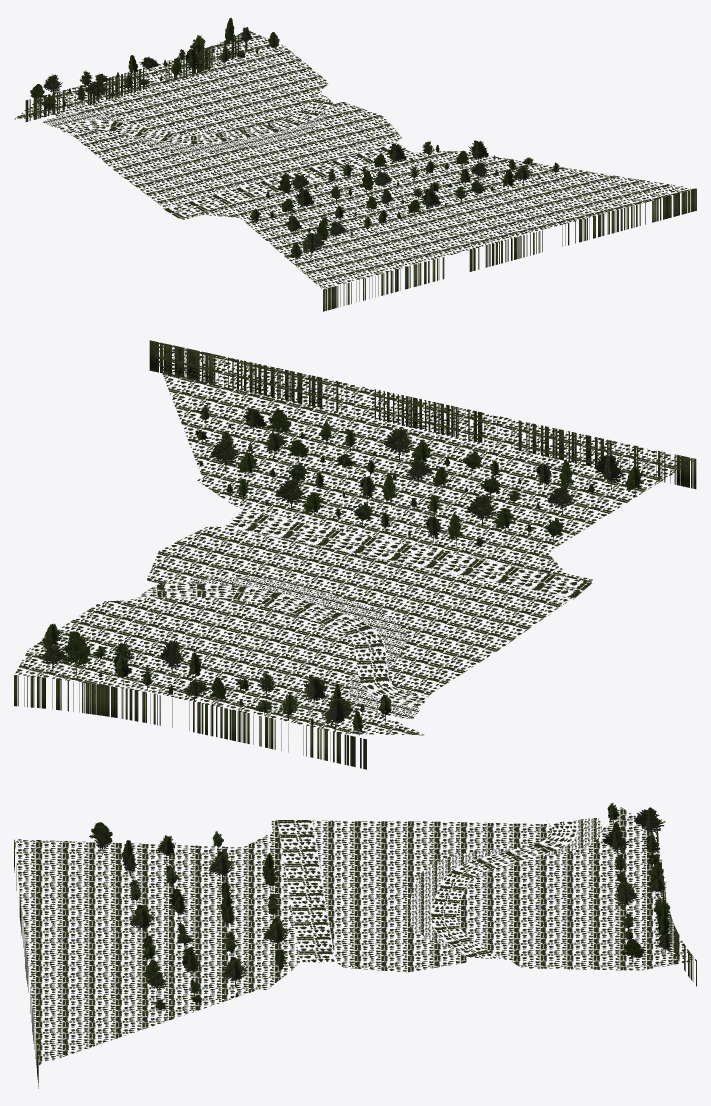
Rendered from redring5.glb.
3 views of the same model, one above another, from view 1: azimuth 30°, elevation 25°; view 2: azimuth 150°, elevation 25°; view 3: azimuth 270°, elevation 25° (orthographic). The views are drawn at different scales.
Parts seen in each view (by area): view 1: redring5; view 2: redring5; view 3: redring5.
Part boxes in pixels (x1,y1,x2,y2): redring5: (14,18,696,311); redring5: (14,340,696,769); redring5: (14,803,696,1088).
Size of the model in its own units: 276 by 31.83 by 309.
1 material, 1 textured.
